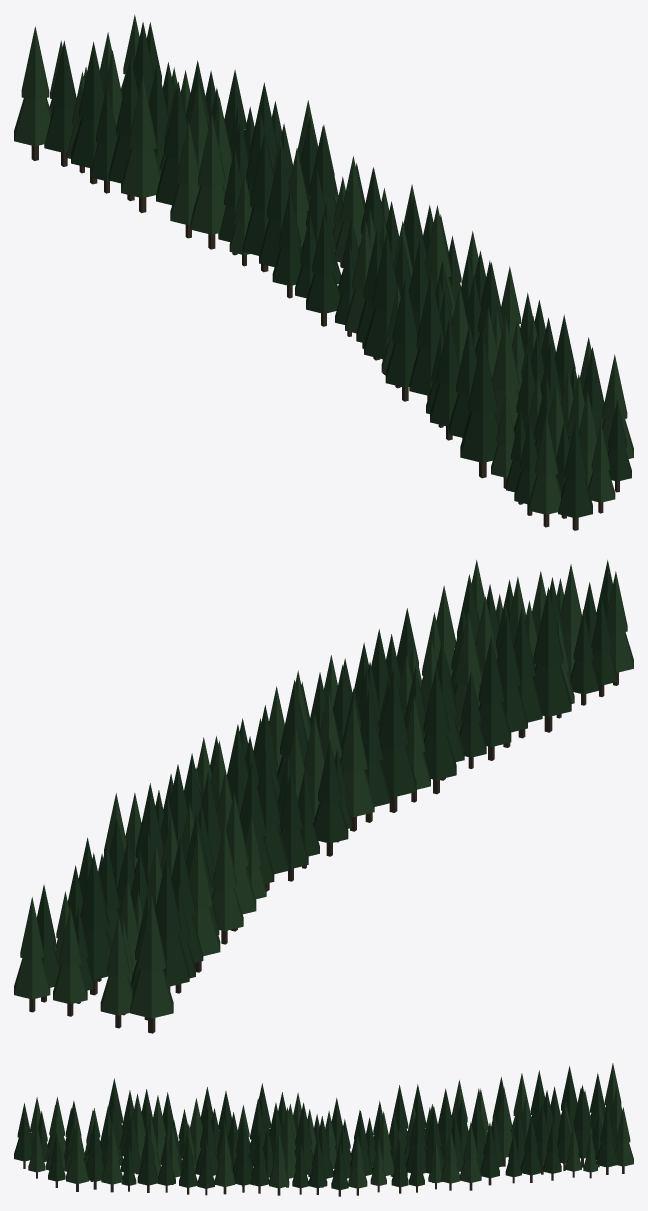
File: forest_edge_08.glb
The picture shows the model from 3 angles, top to bottom: view 1: azimuth 30°, elevation 25°; view 2: azimuth 150°, elevation 25°; view 3: azimuth 270°, elevation 25°; orthographic projection. The views are drawn at different scales.
Visible parts, largest first — view 1: chunk_0_0; view 2: chunk_0_0; view 3: chunk_0_0.
Boxes of the visible parts, x1=… form: chunk_0_0: x1=14, y1=14, x2=633, y2=530; chunk_0_0: x1=14, y1=560, x2=633, y2=1033; chunk_0_0: x1=14, y1=1063, x2=633, y2=1196.
Bounding box in the file's own units: 40.79 × 31.03 × 182.
